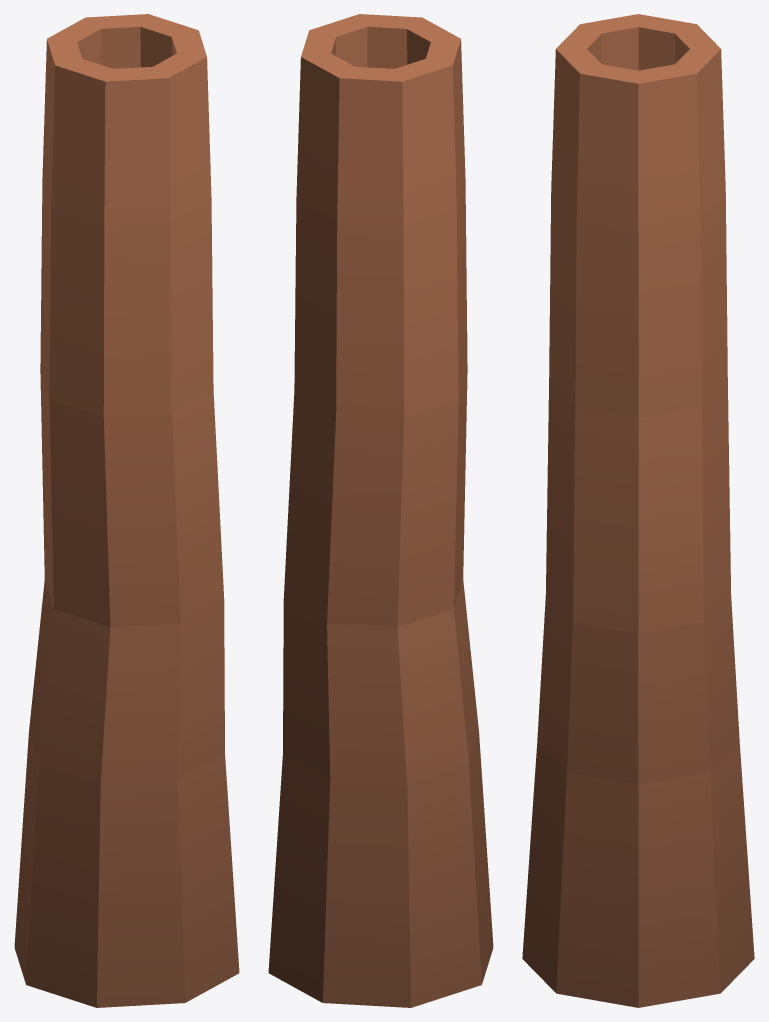
File: tree trunk 5.fbx
3 renders of one model, left to right at view 1: azimuth 30°, elevation 25°; view 2: azimuth 150°, elevation 25°; view 3: azimuth 270°, elevation 25°, orthographic.
Parts seen in each view (by area): view 1: tree trunk 5; view 2: tree trunk 5; view 3: tree trunk 5.
Boxes of the visible parts, left/top/right/bottom form: tree trunk 5: left=14, top=14, right=239, bottom=1007; tree trunk 5: left=268, top=14, right=493, bottom=1007; tree trunk 5: left=522, top=14, right=754, bottom=1007.
Bounding box in the file's own units: 65.61 × 284 × 65.61.
